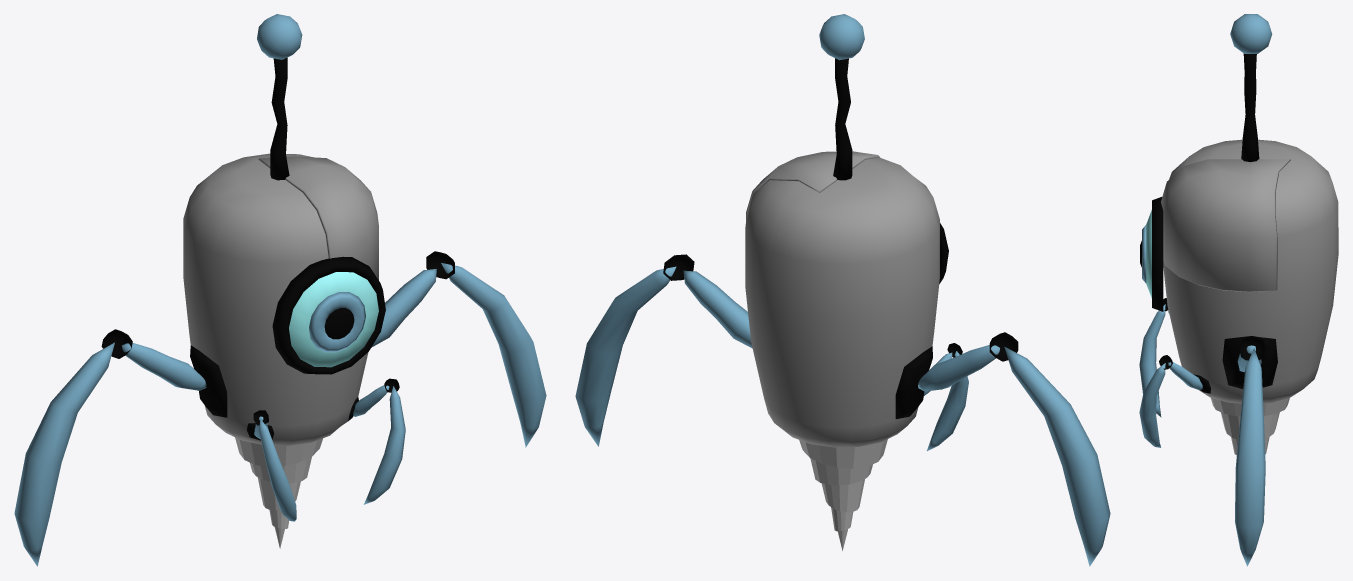
File: Nanobot.fbx
3 views of the same model, side by side, from view 1: azimuth 30°, elevation 25°; view 2: azimuth 150°, elevation 25°; view 3: azimuth 270°, elevation 25° (orthographic). The views are drawn at different scales.
Parts seen in each view (by area): view 1: Cube, Cube.006, Cube.003, Cube.005, Cube.002, Cube.001, Cylinder.004, Cube.004; view 2: Cube, Cube.006, Cylinder.004, Cube.001, Cube.005, Cube.002, Cube.004; view 3: Cube, Cube.005, Cube.006, Cube.002, Cube.001, Cube.003, Cube.004, Cylinder.004.
Boxes of the visible parts, x1=… form: Cube: x1=183, y1=153, x2=368, y2=445; Cube.006: x1=14, y1=251, x2=546, y2=566; Cube.003: x1=272, y1=256, x2=385, y2=374; Cube.005: x1=257, y1=156, x2=378, y2=280; Cube.002: x1=253, y1=378, x2=405, y2=521; Cube.001: x1=257, y1=14, x2=302, y2=180; Cylinder.004: x1=235, y1=437, x2=322, y2=548; Cube.004: x1=190, y1=345, x2=227, y2=417; Cube: x1=745, y1=157, x2=939, y2=447; Cube.006: x1=575, y1=254, x2=1110, y2=566; Cylinder.004: x1=799, y1=439, x2=887, y2=550; Cube.001: x1=819, y1=14, x2=864, y2=180; Cube.005: x1=746, y1=151, x2=880, y2=220; Cube.002: x1=924, y1=343, x2=968, y2=450; Cube.004: x1=895, y1=346, x2=932, y2=419; Cube: x1=1163, y1=139, x2=1338, y2=403; Cube.005: x1=1161, y1=159, x2=1290, y2=292; Cube.006: x1=1235, y1=336, x2=1265, y2=566; Cube.002: x1=1139, y1=298, x2=1202, y2=447; Cube.001: x1=1230, y1=14, x2=1272, y2=162; Cube.003: x1=1140, y1=197, x2=1163, y2=311; Cube.004: x1=1222, y1=336, x2=1277, y2=388; Cylinder.004: x1=1210, y1=397, x2=1289, y2=455.
Size of the model in its own units: 1193 by 1158 by 433.
